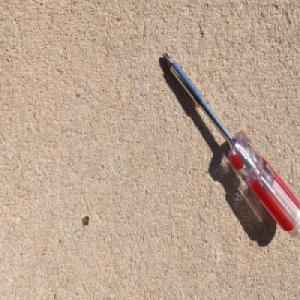Screwdriver: (162, 49, 300, 241)
